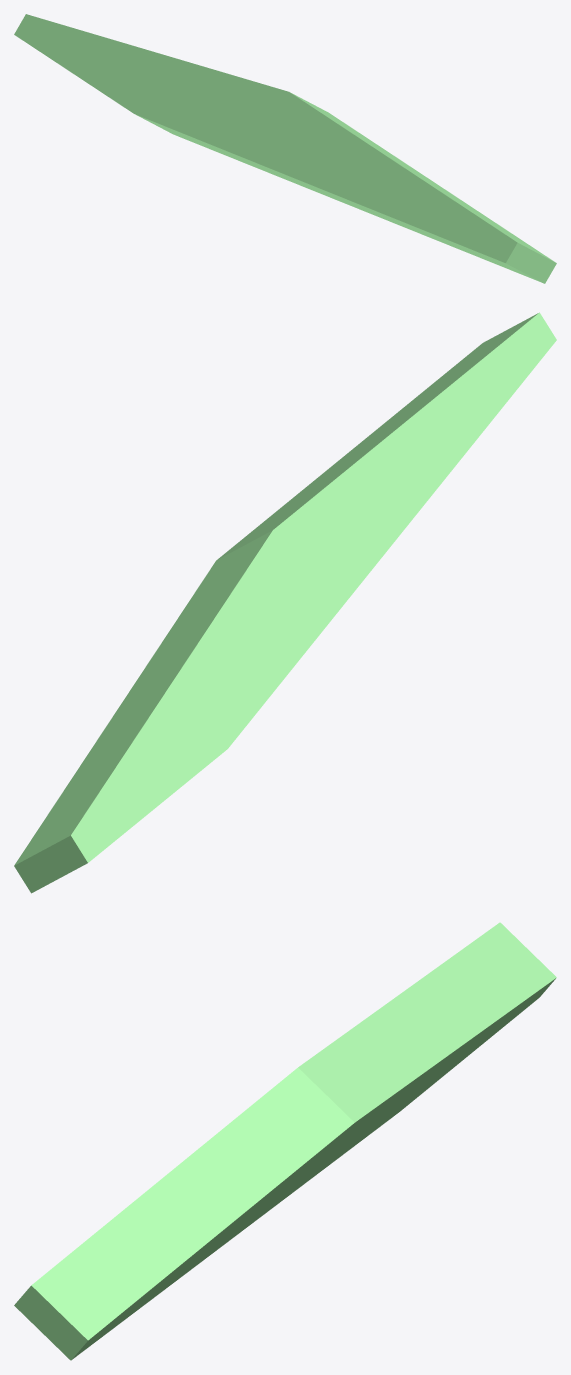
File: dvkr_robot_Lp2_respondable_PSM1_coll_2.dae
3 renders of one model, top to bottom at view 1: azimuth 30°, elevation 25°; view 2: azimuth 150°, elevation 25°; view 3: azimuth 330°, elevation 25°, orthographic. The views are drawn at different scales.
Visible parts, largest first — view 1: Node_0000023514CD72A0; view 2: Node_0000023514CD72A0; view 3: Node_0000023514CD72A0.
Boxes of the visible parts, left/top/right/bottom form: Node_0000023514CD72A0: left=14, top=14, right=556, bottom=283; Node_0000023514CD72A0: left=14, top=312, right=556, bottom=893; Node_0000023514CD72A0: left=14, top=922, right=556, bottom=1360.
Bounding box in the file's own units: 0.0431 × 0.0346 × 0.2449.
